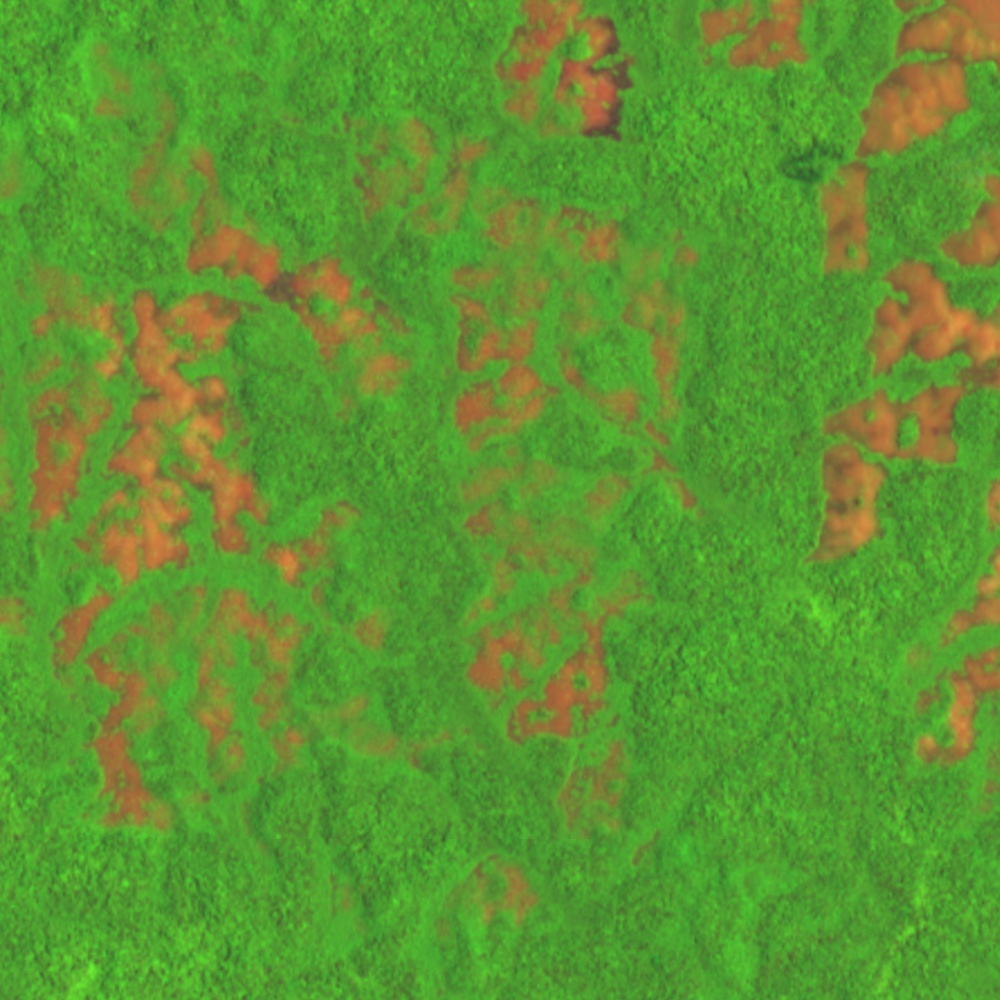legal: (101, 71, 430, 401), (444, 214, 700, 589), (803, 156, 1000, 570), (7, 282, 255, 576), (198, 492, 373, 786), (443, 735, 646, 940), (44, 586, 208, 830), (466, 575, 659, 756), (916, 482, 1000, 781), (855, 1, 1000, 157), (493, 1, 641, 149), (681, 1, 819, 69)
